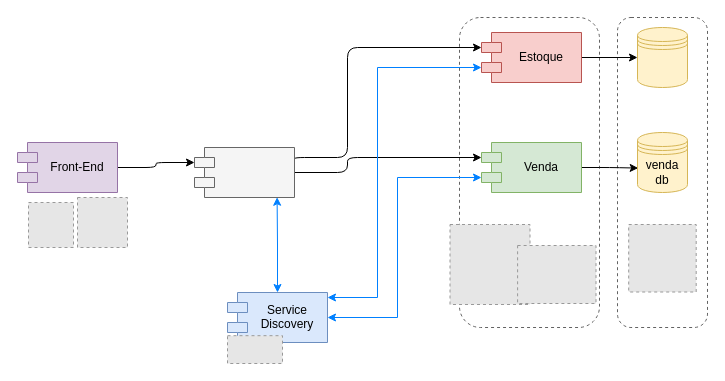
Image size: 725x381. Some labels were removed from this diagram. Grey dashed boxes stand in for pictures. The box of each missing label's shape, as (x1, y1, x2, y2) in pixels:
estoque db: (636, 26, 688, 88)
Gateway: (194, 146, 294, 198)
